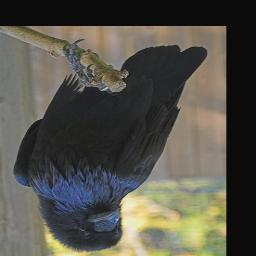Crow: (13, 39, 207, 253)
